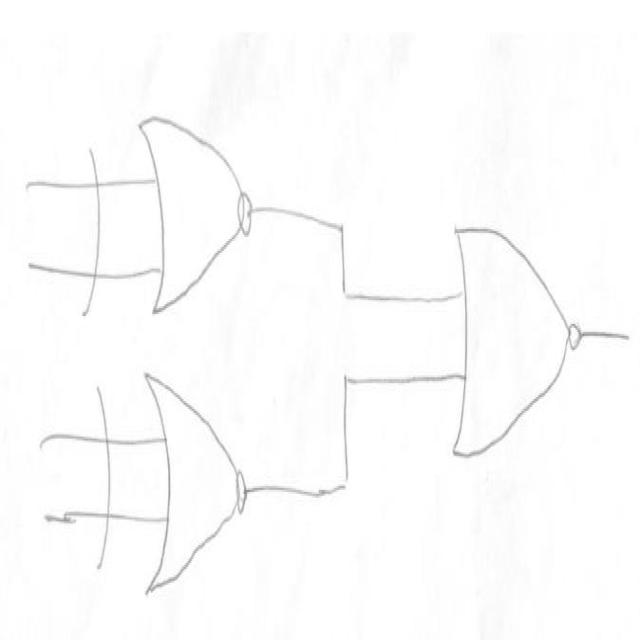NOR: (450, 205, 598, 463)
XNOR: (66, 112, 275, 338), (83, 370, 265, 613)
